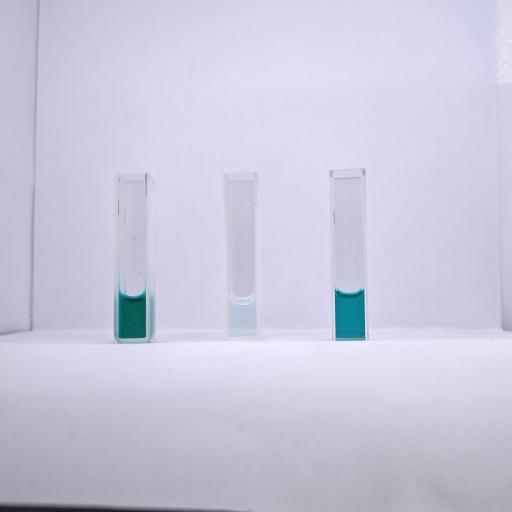cuvette: (328, 167, 371, 341), (112, 171, 152, 345), (222, 170, 262, 342)
liquid: (335, 290, 365, 338), (118, 293, 146, 340), (229, 296, 256, 336)
